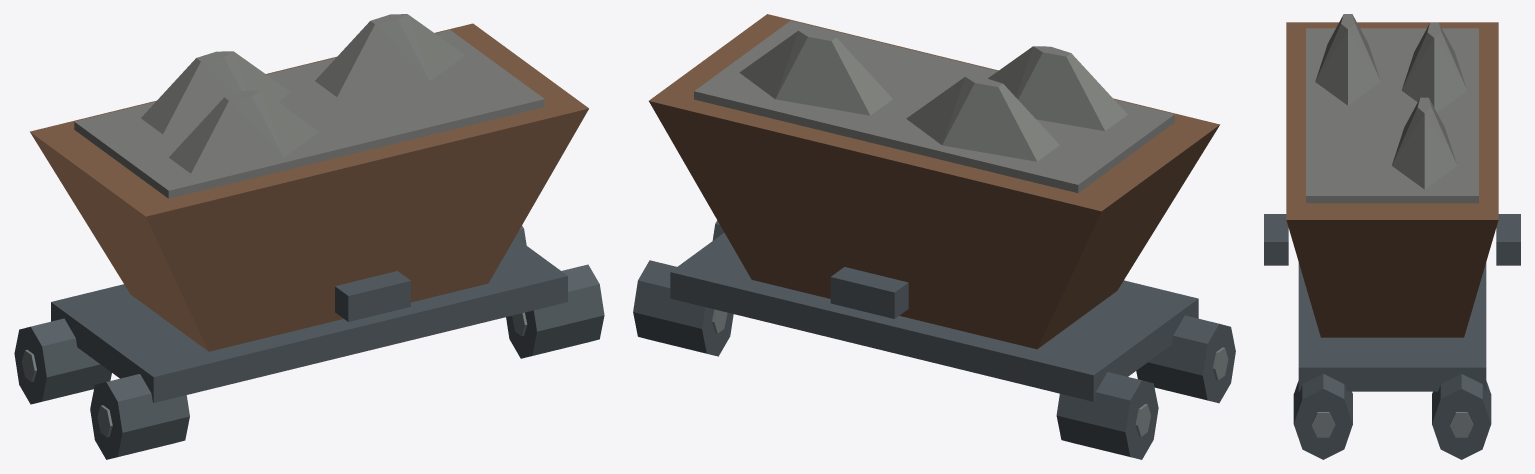
Rendered from ore_cart.glb.
3 views of the same model, side by side, from view 1: azimuth 30°, elevation 25°; view 2: azimuth 150°, elevation 25°; view 3: azimuth 270°, elevation 25° (orthographic). The views are drawn at different scales.
Visible parts, largest first — view 1: ore_cart; view 2: ore_cart; view 3: ore_cart.
Part boxes in pixels (<box>): ore_cart: <box>14,14,604,459</box>; ore_cart: <box>633,14,1235,459</box>; ore_cart: <box>1264,14,1520,459</box>.
Size of the model in its own units: 1.92 by 1.2 by 0.96.
